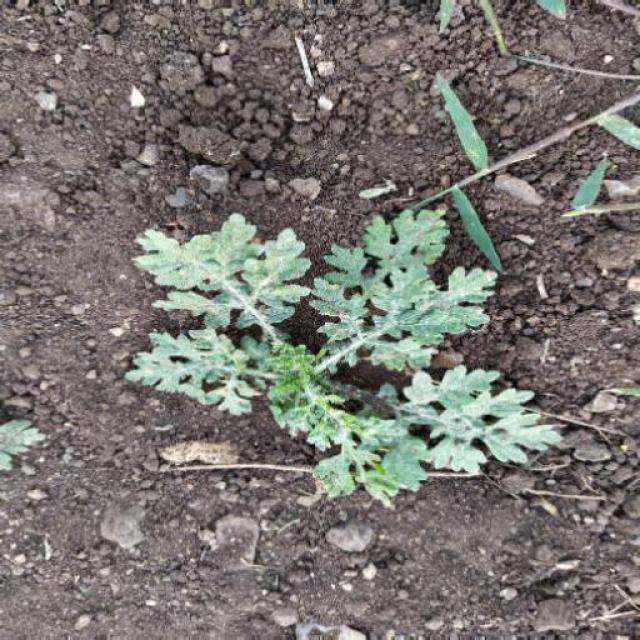weed: (111, 184, 584, 506)
